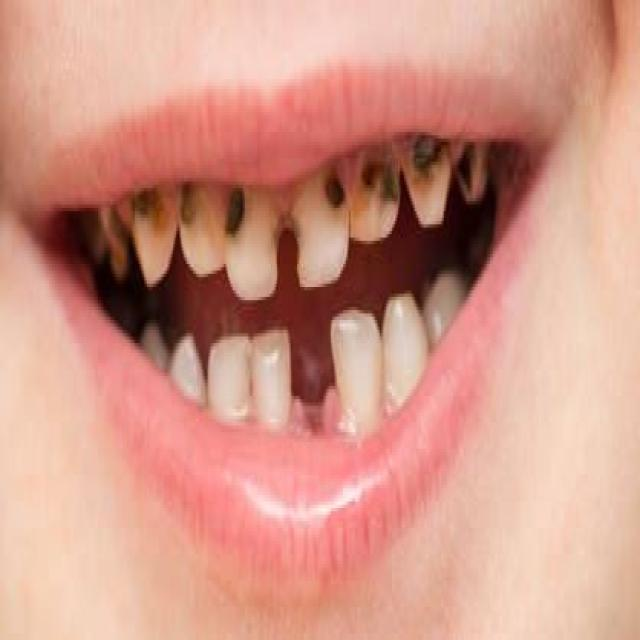caries: (264, 207, 306, 288), (357, 146, 402, 220), (317, 158, 352, 227), (105, 195, 134, 276), (408, 126, 442, 188), (222, 182, 250, 255), (450, 141, 482, 203), (136, 186, 172, 240), (180, 181, 210, 229)
